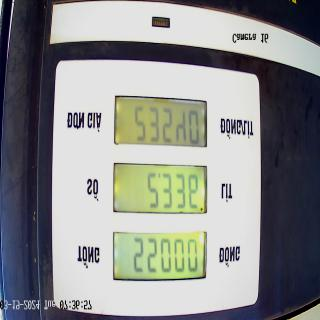screen: (111, 90, 209, 287)
